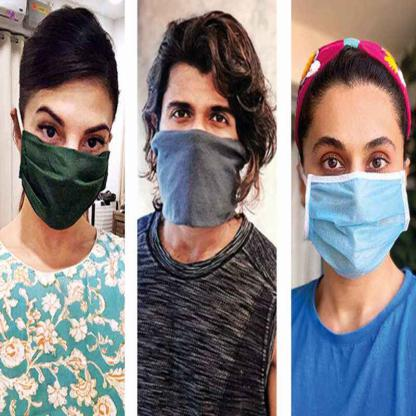Wearing_Mask: (139, 42, 255, 245), (301, 58, 416, 262), (16, 33, 107, 236)
